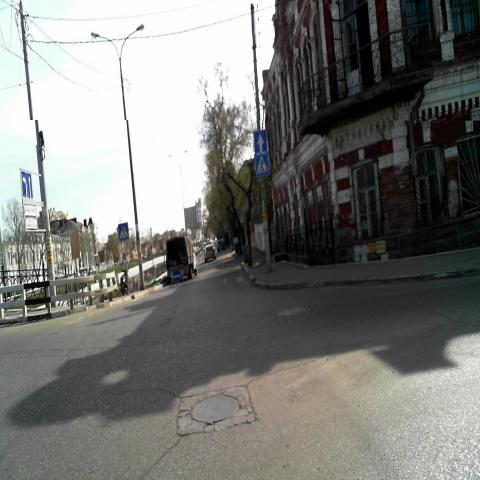4_1_2_1: (172, 268, 182, 286)
5_15_2_2: (20, 169, 34, 200)
